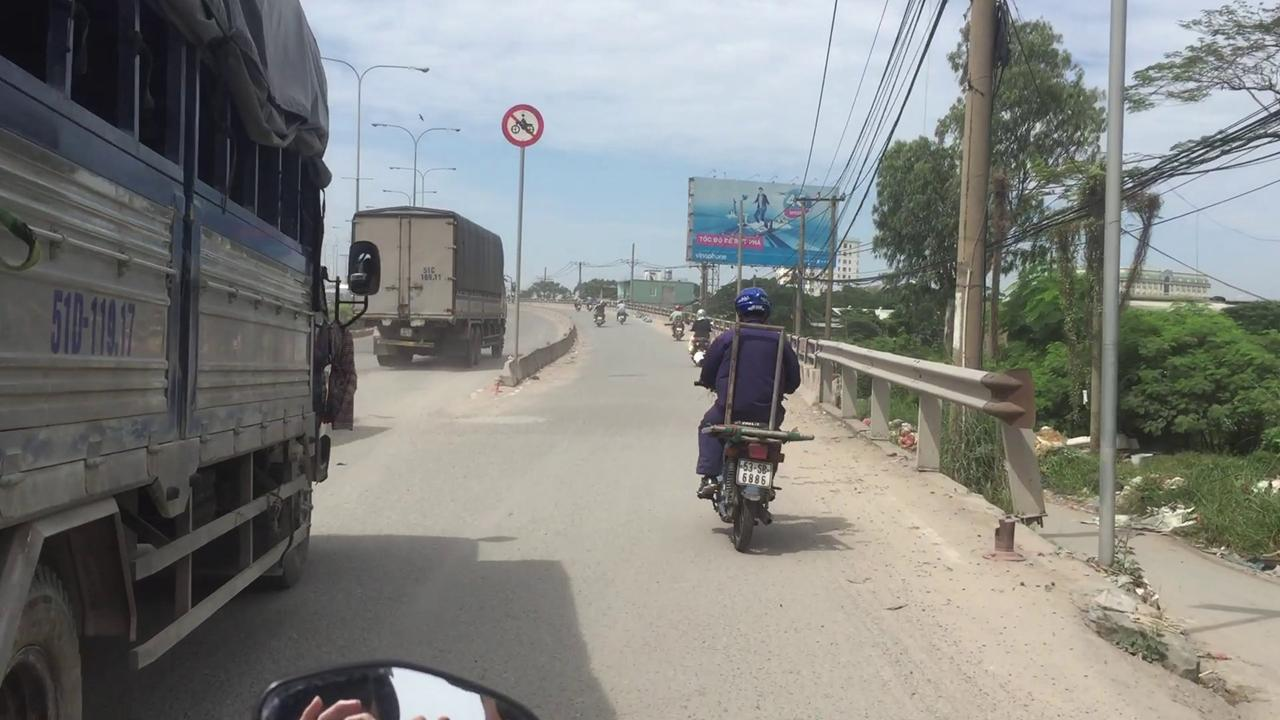P.103b: (500, 103, 544, 144)
